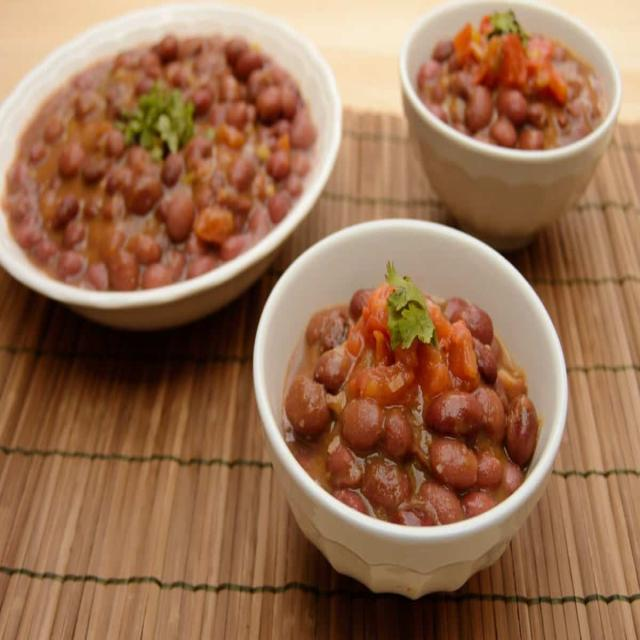frijoles: (3, 14, 319, 299), (279, 265, 545, 538)
